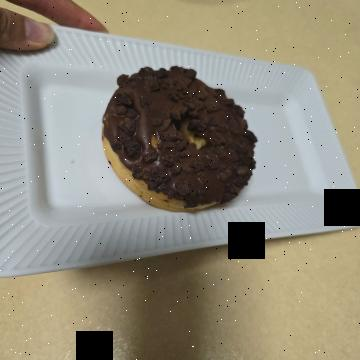doughnut: (52, 94, 230, 265)
